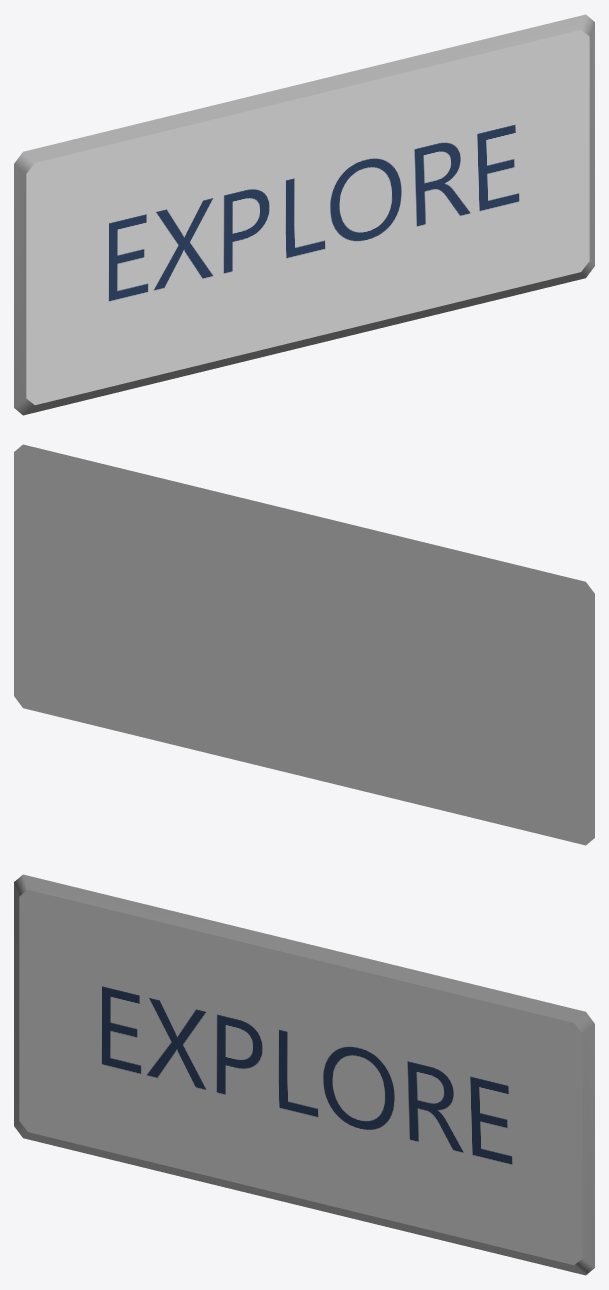
The model's file is Explore.fbx.
3 renders of one model, top to bottom at view 1: azimuth 30°, elevation 25°; view 2: azimuth 150°, elevation 25°; view 3: azimuth 330°, elevation 25°, orthographic.
Visible parts, largest first — view 1: Explore; view 2: Explore; view 3: Explore.
Part boxes in pixels (bbox=[...]): Explore: bbox=[14, 14, 594, 415]; Explore: bbox=[14, 444, 594, 845]; Explore: bbox=[14, 874, 594, 1275].
Size of the model in its own units: 1 by 0.4342 by 0.0104.
2 materials, 1 textured.
